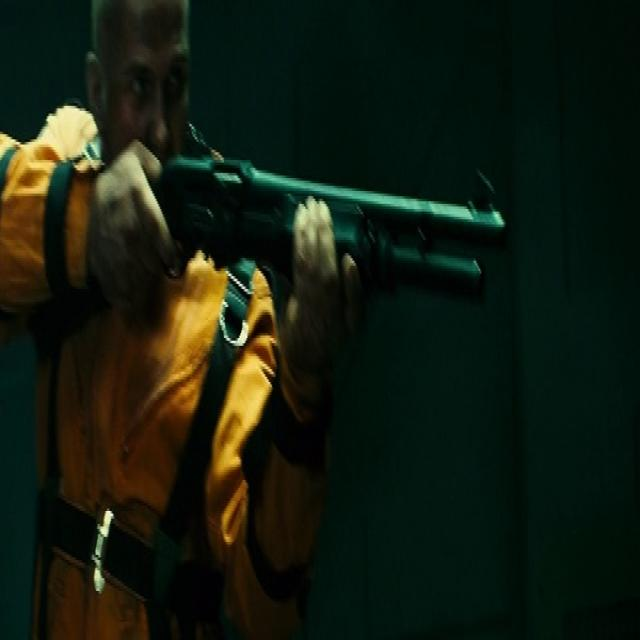rifle: (156, 134, 516, 314)
